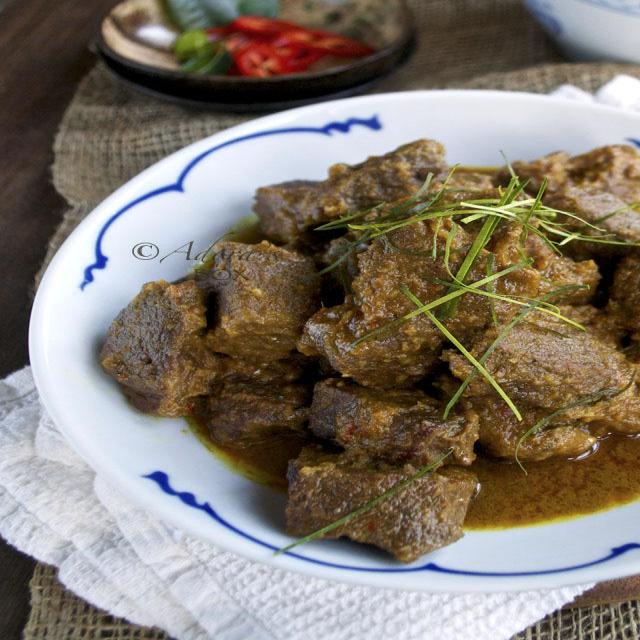Rendang: (92, 136, 640, 561)
